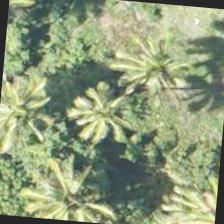Kelapa_Sawit: (118, 15, 216, 114), (54, 68, 152, 166), (39, 150, 136, 223), (0, 64, 66, 160)
